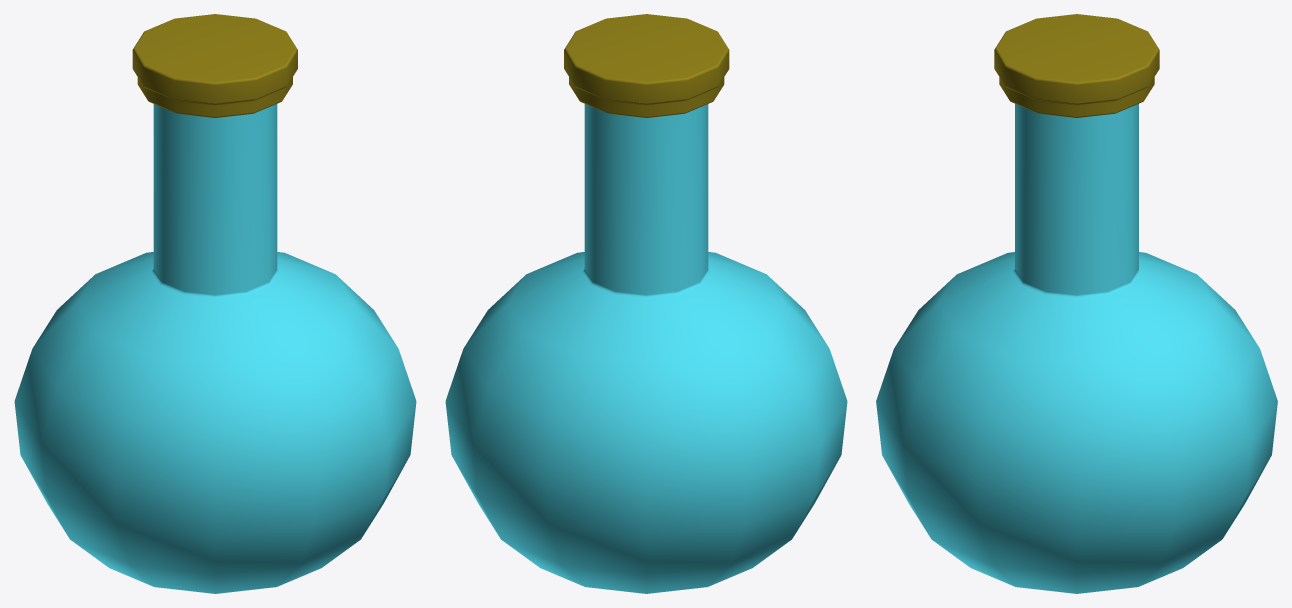
Rendered from potion03.FBX.
3 views of the same model, side by side, from view 1: azimuth 30°, elevation 25°; view 2: azimuth 150°, elevation 25°; view 3: azimuth 270°, elevation 25° (orthographic).
Parts seen in each view (by area): view 1: potion_03glass; view 2: potion_03glass; view 3: potion_03glass.
Part boxes in pixels (bbox=[...]): potion_03glass: bbox=[14, 14, 416, 593]; potion_03glass: bbox=[445, 14, 847, 593]; potion_03glass: bbox=[876, 14, 1277, 593].
Bounding box in the file's own units: 35.64 × 50.41 × 35.64.
